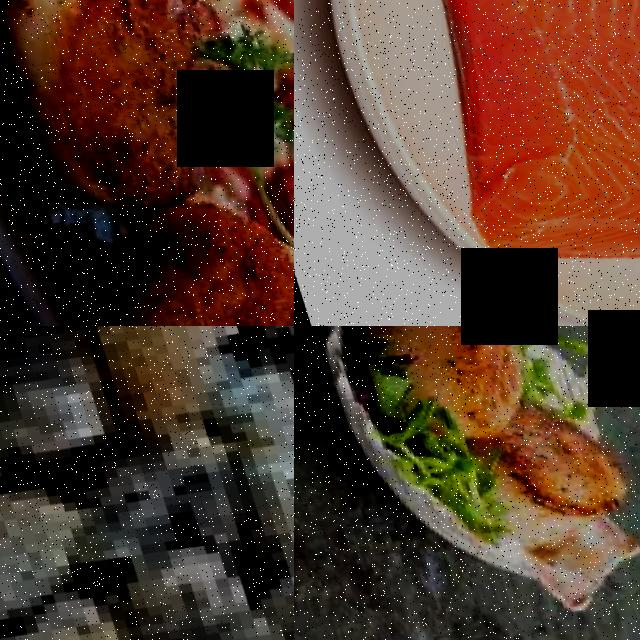salmon: (349, 0, 640, 289)
sea scallops: (0, 0, 220, 229), (57, 195, 294, 326), (473, 420, 635, 541), (371, 326, 534, 399)
